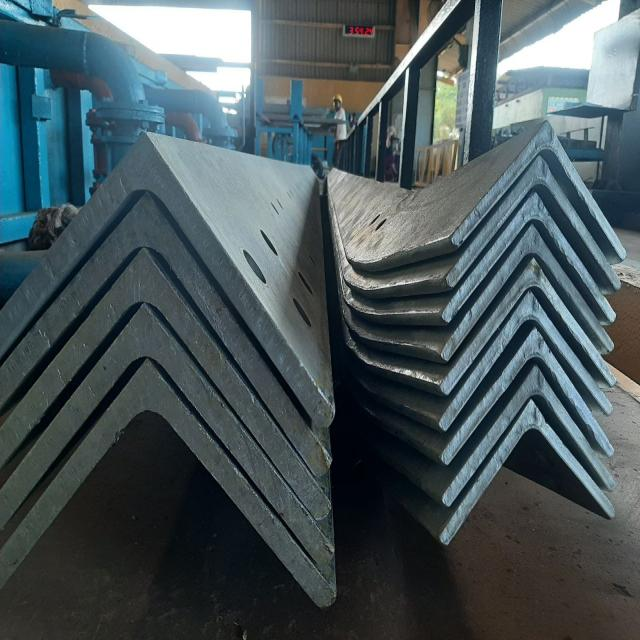metal-angles: (0, 131, 335, 429), (0, 189, 333, 477), (1, 246, 331, 520), (1, 302, 334, 566), (0, 357, 336, 609), (440, 398, 615, 544), (439, 290, 614, 432), (450, 119, 626, 260), (441, 365, 616, 505), (440, 257, 616, 394), (446, 154, 622, 290), (441, 327, 614, 465), (440, 224, 614, 361), (442, 192, 616, 323)
